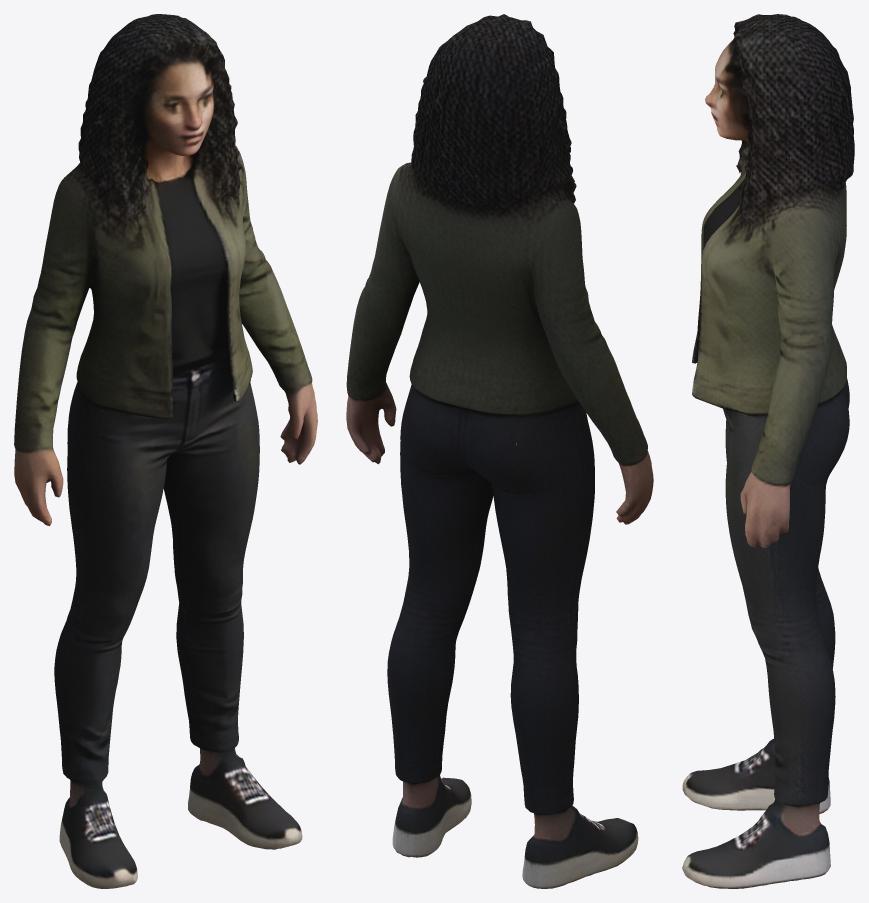
Rendered from mira_ai.glb.
The picture shows the model from 3 angles, left to right: view 1: azimuth 30°, elevation 25°; view 2: azimuth 150°, elevation 25°; view 3: azimuth 270°, elevation 25°; orthographic projection.
Visible parts, largest first — view 1: Mesh; view 2: Mesh; view 3: Mesh.
Part boxes in pixels (bbox=[...]): Mesh: bbox=[14, 14, 317, 888]; Mesh: bbox=[346, 14, 653, 888]; Mesh: bbox=[682, 14, 854, 888].
Bounding box in the file's own units: 0.7132 × 1.91 × 0.3633.
Materials: 1 (1 with a texture image).
